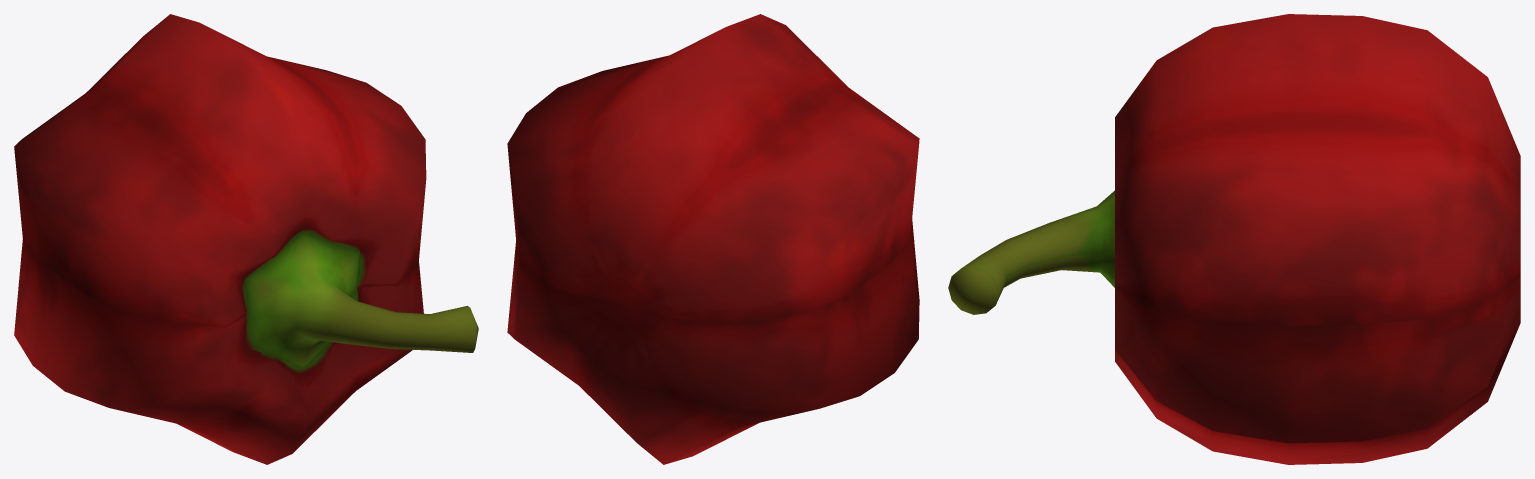
The model's file is PaprikaA.glb.
3 views of the same model, side by side, from view 1: azimuth 30°, elevation 25°; view 2: azimuth 150°, elevation 25°; view 3: azimuth 270°, elevation 25° (orthographic). The views are drawn at different scales.
Parts seen in each view (by area): view 1: PaprikaA_Paprika_0; view 2: PaprikaA_Paprika_0; view 3: PaprikaA_Paprika_0.
Boxes of the visible parts, x1,y1,x2,y2 form: PaprikaA_Paprika_0: (14,14,478,464); PaprikaA_Paprika_0: (507,14,919,464); PaprikaA_Paprika_0: (948,14,1520,464).
Size of the model in its own units: 0.9447 by 1.09 by 1.26.
1 material, 1 textured.
